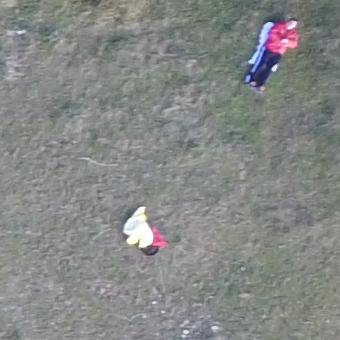human: (245, 15, 303, 93)
